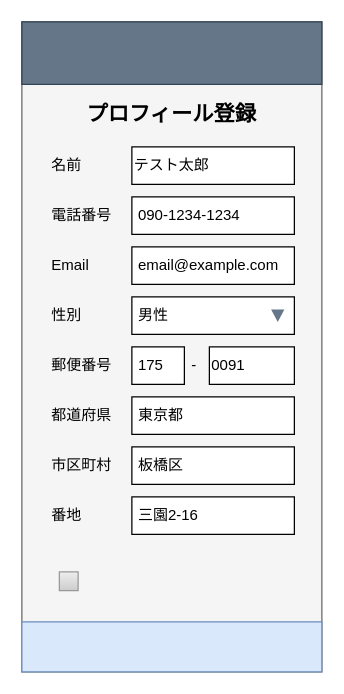
Image size: 344x694. Some labels were removed from this diagram. Here are the shapes that lost their labels. From the top down, the centre of each, then its label:
At [171,52]: "サンプルフォーム".
At [68,581]: "メール配信を希望しますか？".
At [171,646]: "登録する".
